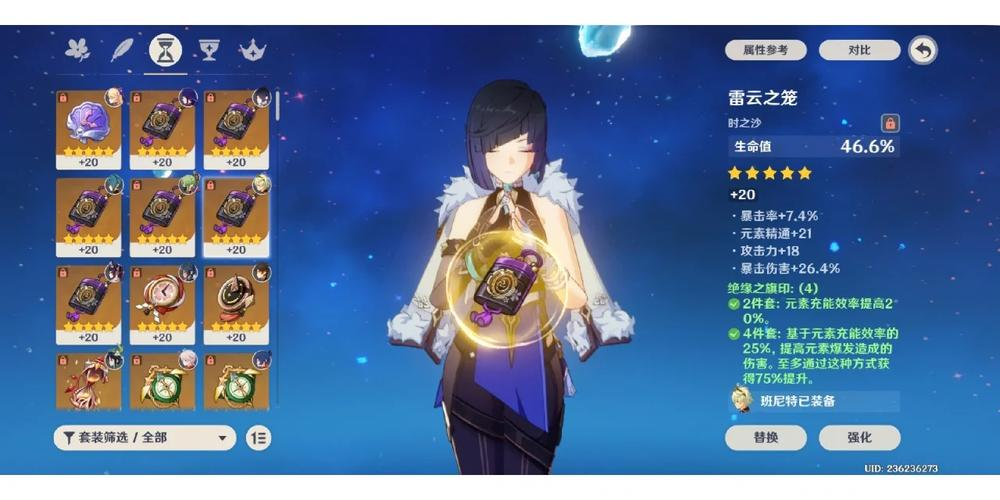夜兰: (413, 70, 592, 473)
